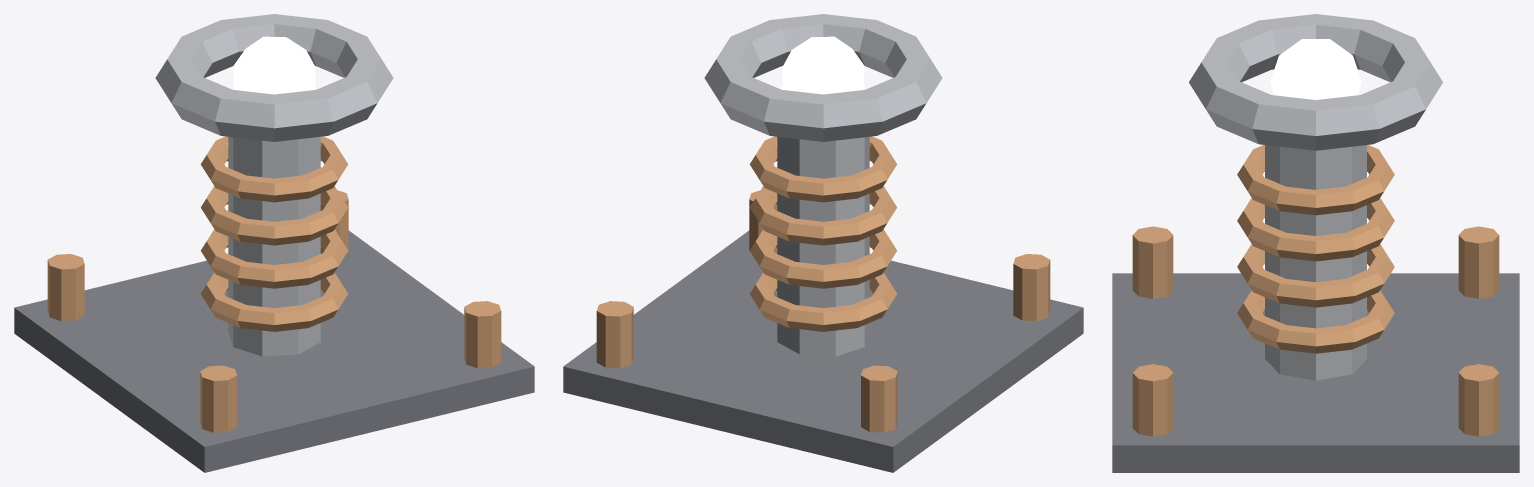
File: blitzfalle.glb
The picture shows the model from 3 angles, left to right: view 1: azimuth 30°, elevation 25°; view 2: azimuth 150°, elevation 25°; view 3: azimuth 270°, elevation 25°; orthographic projection. The views are drawn at different scales.
Visible parts, largest first — view 1: metall_dunkel_0, metall_6, metall_1, kupfer_5, kupfer_4, kupfer_2, kupfer_3, blitz_7, kupfer_10, kupfer_9, kupfer_11; view 2: metall_dunkel_0, metall_6, metall_1, kupfer_5, kupfer_4, kupfer_2, kupfer_3, blitz_7, kupfer_8, kupfer_11, kupfer_9; view 3: metall_dunkel_0, metall_6, metall_1, kupfer_5, kupfer_4, kupfer_3, kupfer_2, blitz_7, kupfer_9, kupfer_11, kupfer_8, kupfer_10.
Boxes of the visible parts, box(x1,y1,x2,y2) form: metall_dunkel_0: box(14, 230, 534, 472); metall_6: box(155, 14, 393, 141); metall_1: box(228, 136, 320, 356); kupfer_5: box(200, 136, 348, 202); kupfer_4: box(201, 186, 347, 245); kupfer_2: box(201, 272, 347, 331); kupfer_3: box(200, 229, 348, 288); blitz_7: box(233, 36, 315, 94); kupfer_10: box(464, 301, 501, 368); kupfer_9: box(47, 254, 84, 321); kupfer_11: box(200, 365, 236, 432); metall_dunkel_0: box(563, 230, 1083, 472); metall_6: box(704, 14, 942, 141); metall_1: box(777, 136, 869, 356); kupfer_5: box(749, 136, 897, 202); kupfer_4: box(750, 186, 896, 245); kupfer_2: box(750, 272, 896, 331); kupfer_3: box(749, 229, 897, 288); blitz_7: box(782, 36, 864, 94); kupfer_8: box(596, 301, 633, 368); kupfer_11: box(1013, 254, 1050, 321); kupfer_9: box(861, 365, 897, 432); metall_dunkel_0: box(1112, 273, 1519, 472); metall_6: box(1189, 14, 1442, 150); metall_1: box(1265, 145, 1366, 380); kupfer_5: box(1237, 145, 1394, 215); kupfer_4: box(1237, 198, 1394, 261); kupfer_3: box(1237, 244, 1394, 307); kupfer_2: box(1237, 290, 1394, 353); blitz_7: box(1270, 39, 1361, 99); kupfer_9: box(1458, 226, 1499, 298); kupfer_11: box(1132, 226, 1173, 298); kupfer_8: box(1458, 364, 1499, 436); kupfer_10: box(1132, 364, 1173, 436).
Size of the model in its own units: 0.8 by 0.75 by 0.8.
